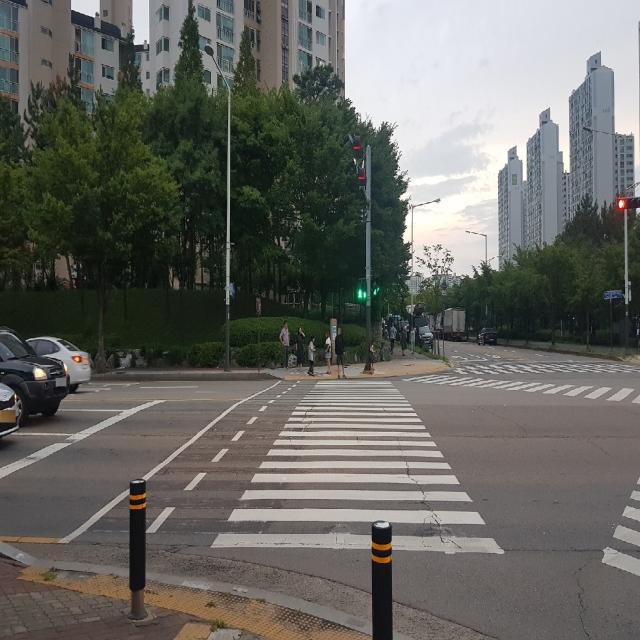초록불: (357, 279, 367, 299)
횡단보도: (210, 380, 505, 556), (414, 351, 638, 403), (610, 442, 640, 577)
